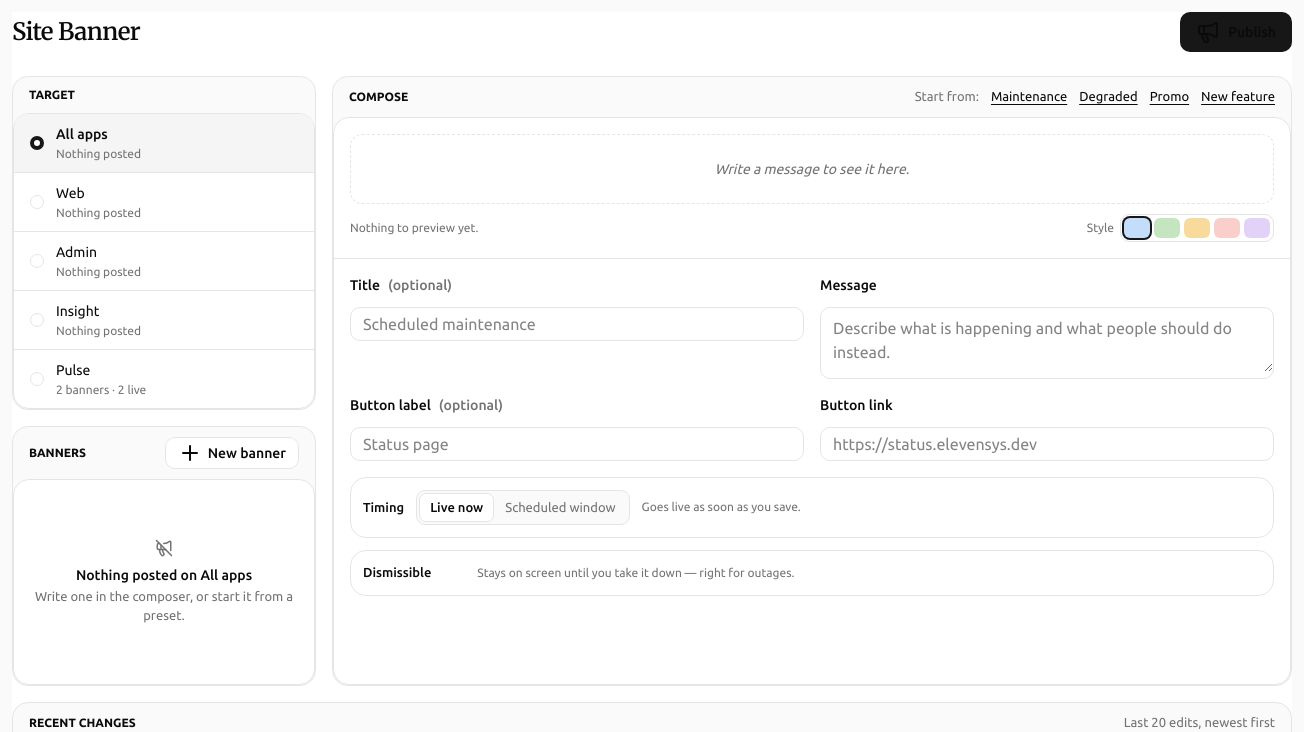
Test: SiteBannerForm › opens the banner that is clicked in the list
What coordinates should you click on to do the following:
click the 6th radio button labelled "Pulse 2 banners · 2 live"
I would click on:
 (88, 379)
Its box is [30, 362, 146, 396].
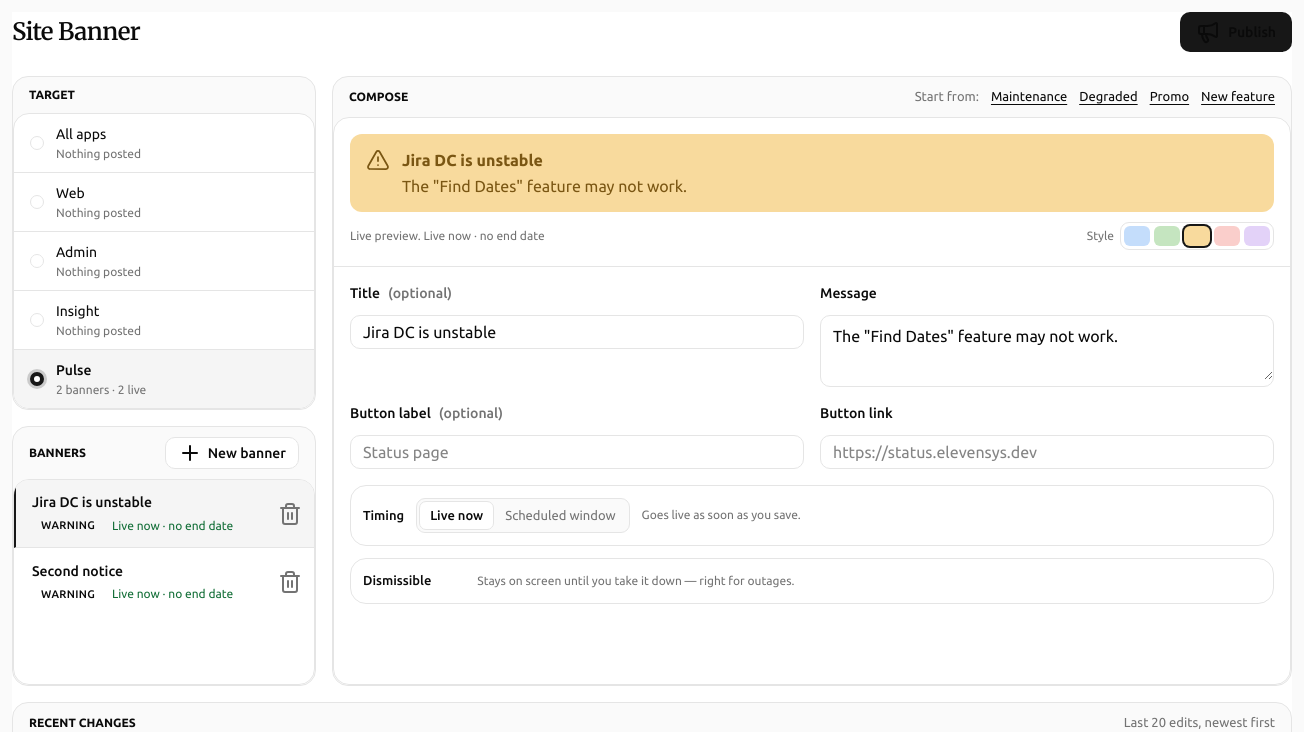
What coordinates should you click on to do the following:
click the button "Second notice Warning Live now · no end date"
I would click on:
 (141, 582)
Its box is [16, 548, 266, 616].
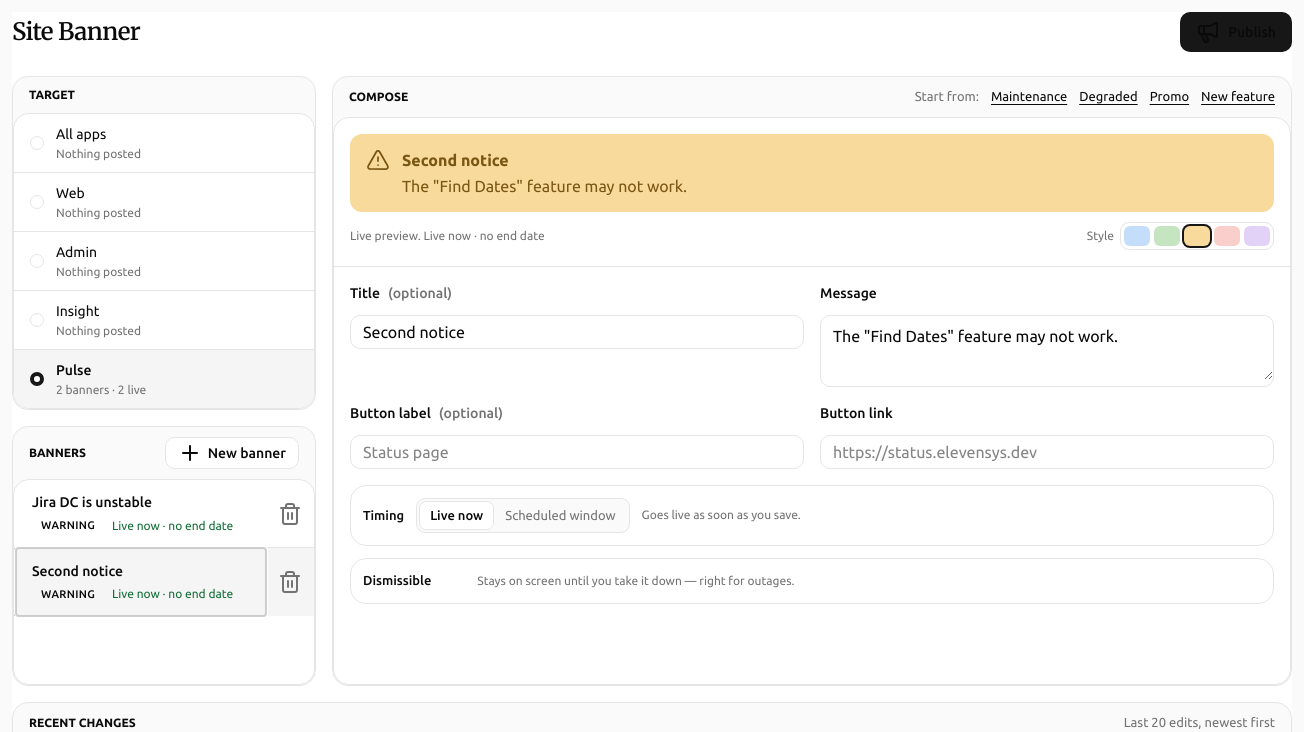
Now the field labelled "Title (optional)" holds "Second notice", box [350, 314, 804, 348]
